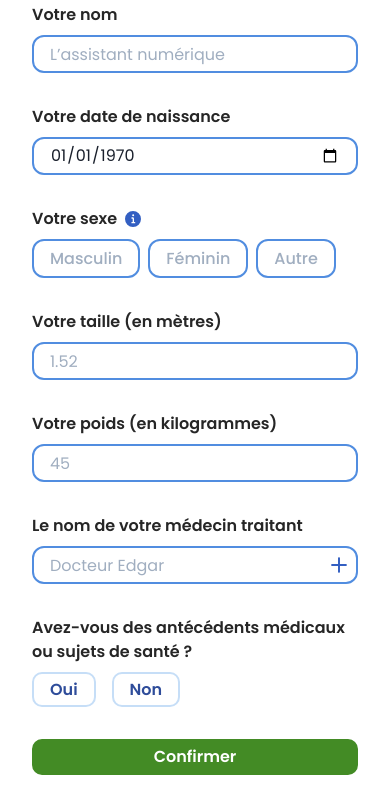
Personal Info Page tests - Mobile › Working page › Error states › No filled inputs
The width and height of the screenshot is (390, 797).
(page scrolled)
Click the button with id "edgar-onboardingPersonalPage-next-button" at (195, 757), box x1=32 y1=739 x2=358 y2=774
(page scrolled)
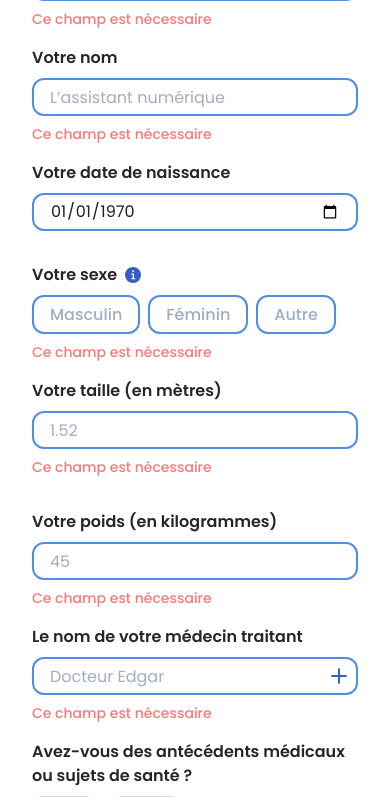
Result: the text with id "edgar-onboardingPersonalPage-formFirstnameError-text" reads "Ce champ est nécessaire" at x1=32 y1=9 x2=212 y2=30
Result: the text with id "edgar-onboardingPersonalPage-formNameError-text" reads "Ce champ est nécessaire" at x1=32 y1=124 x2=212 y2=145
Result: the text with id "edgar-onboardingPersonalPage-formSexError-text" reads "Ce champ est nécessaire" at x1=32 y1=342 x2=212 y2=363
